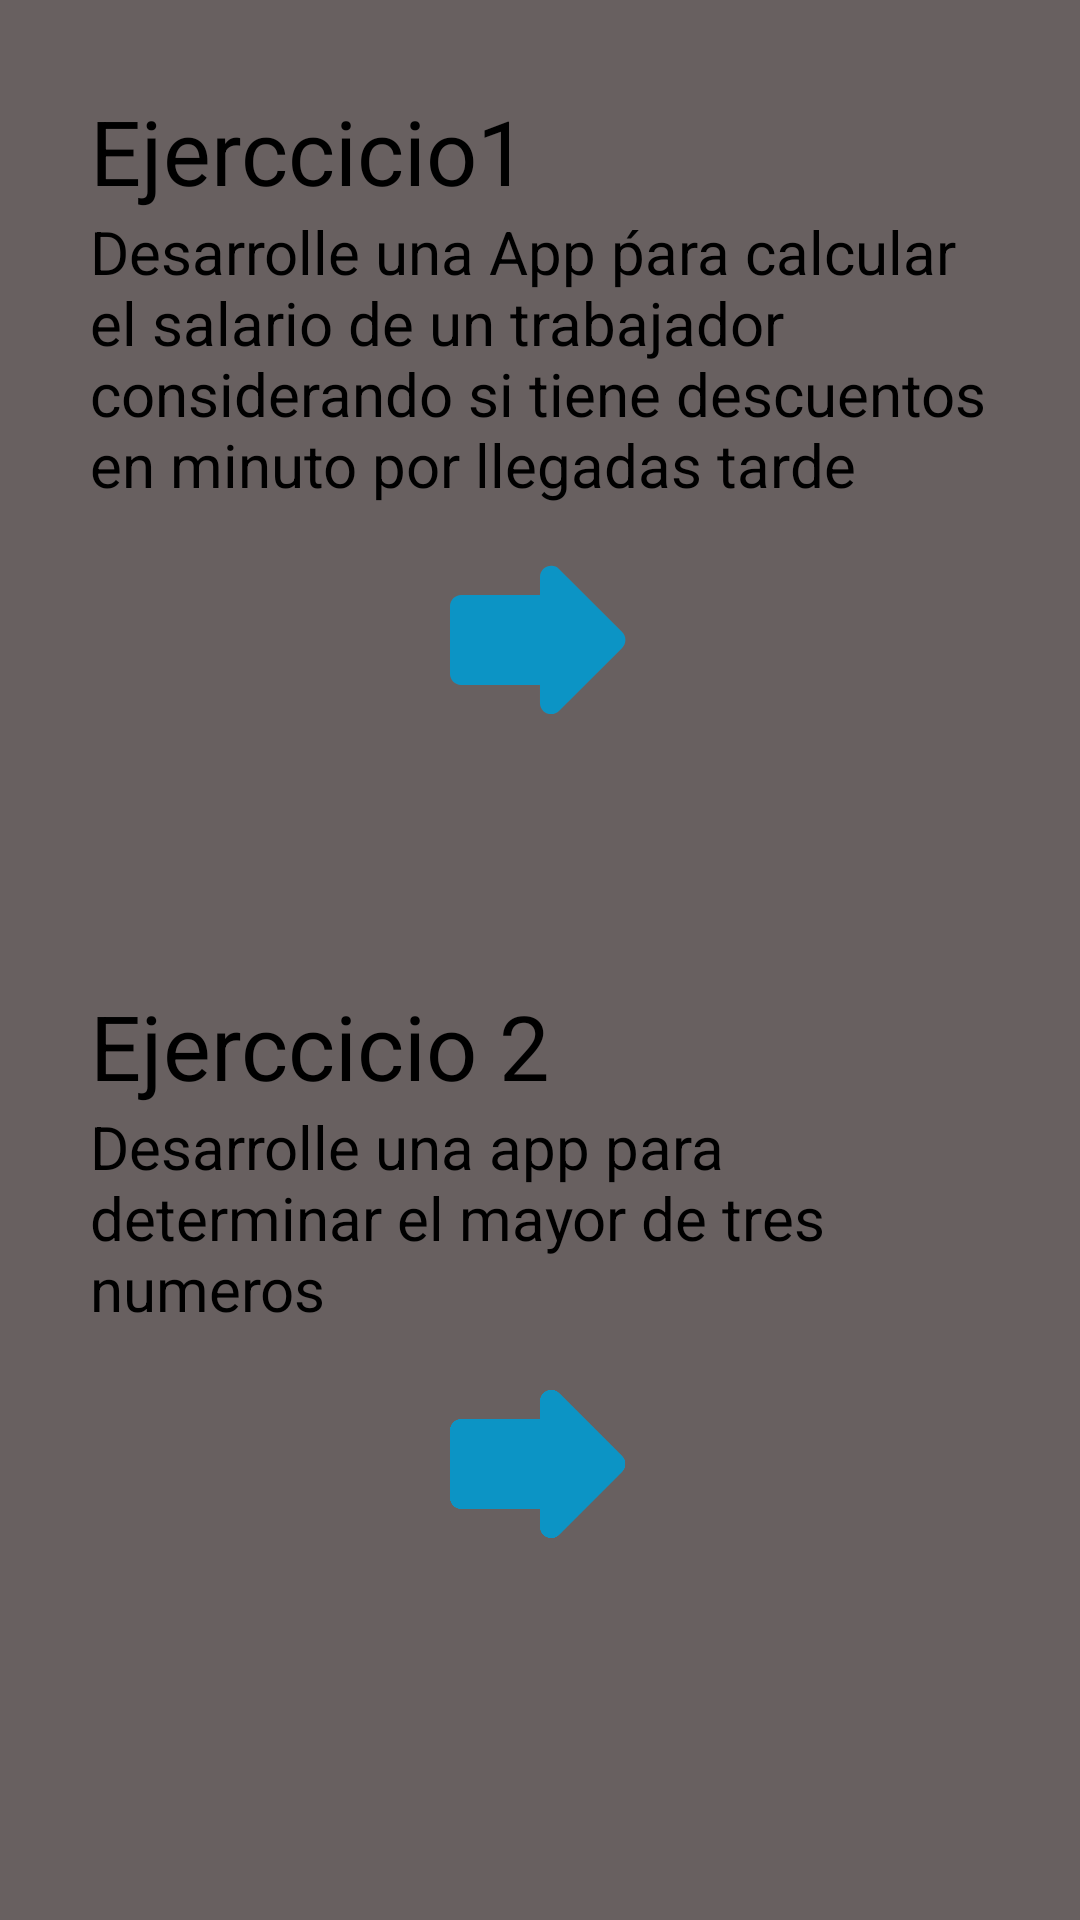

Screen size 1080*1920. Icon name, then its center in pixels as [x,y]:
next: [538,640], [537,1464]
